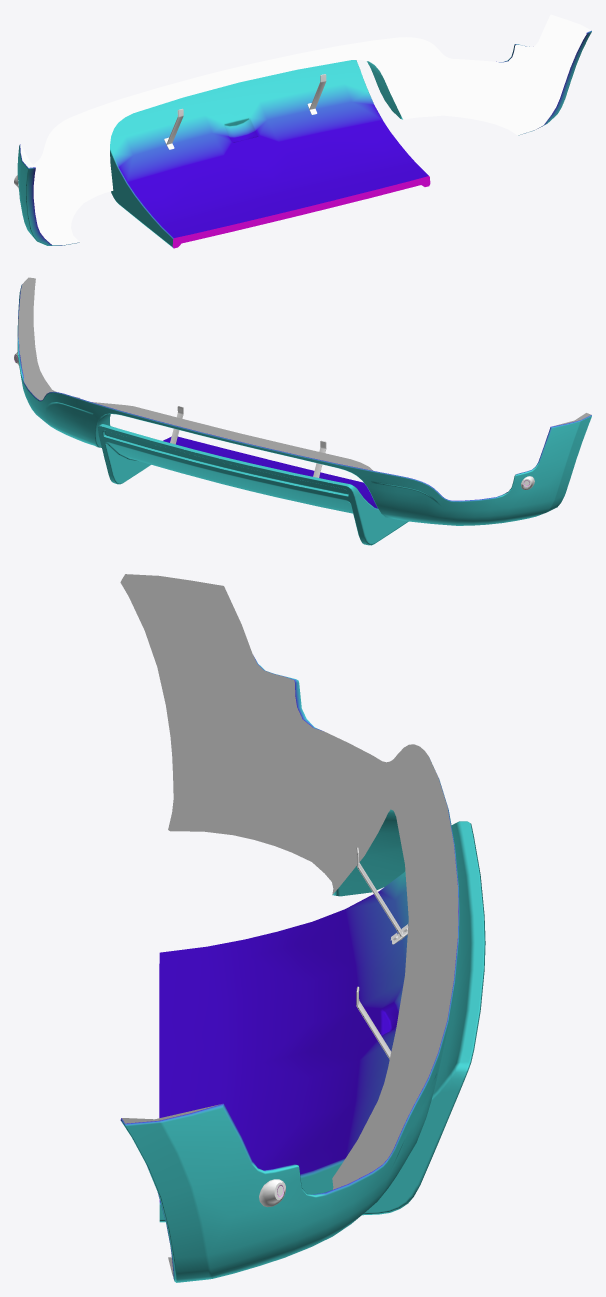
File: Car_Mini_CountrymanJCW_2017_Diffuser_SetD_AltA.fbx
3 renders of one model, top to bottom at view 1: azimuth 30°, elevation 25°; view 2: azimuth 150°, elevation 25°; view 3: azimuth 270°, elevation 25°, orthographic. The views are drawn at different scales.
Visible parts, largest first — view 1: Diffuser 6; view 2: Diffuser 6; view 3: Diffuser 6.
Part boxes in pixels (x1,y1,x2,y2): Diffuser 6: [14, 14, 591, 248]; Diffuser 6: [14, 277, 591, 545]; Diffuser 6: [120, 574, 485, 1282].
Size of the model in its own units: 1.75 by 0.3742 by 0.4893.
